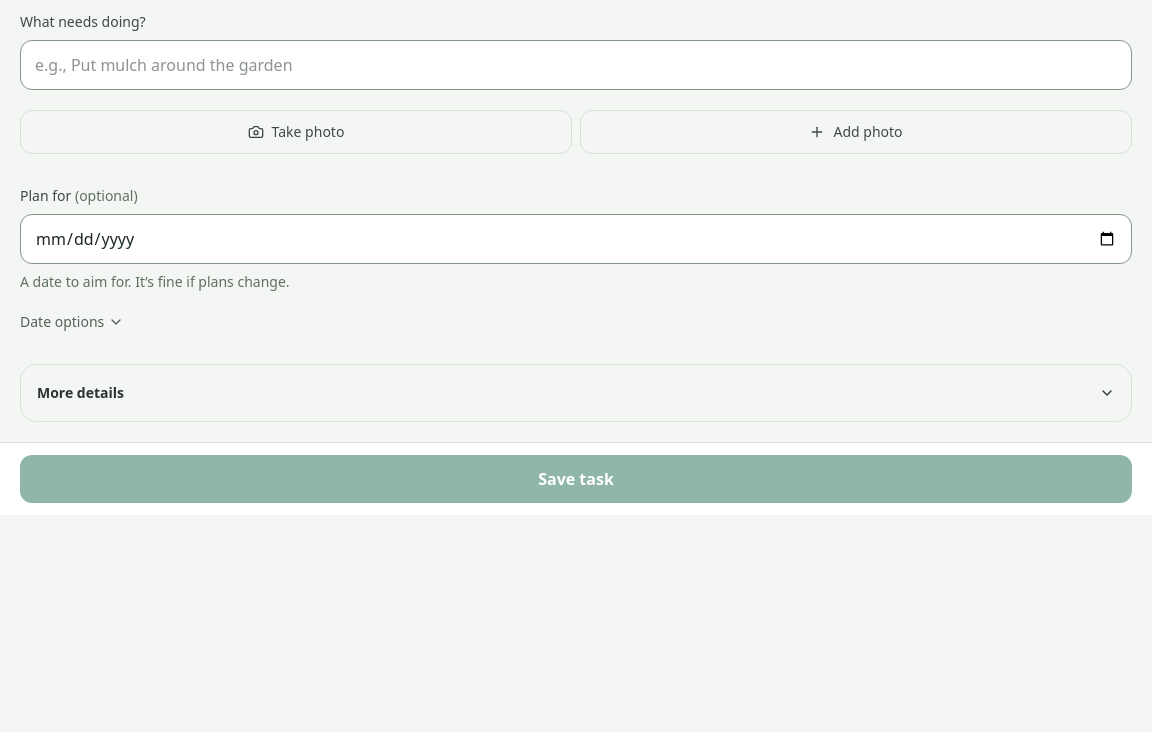
Test: task editing through the rendered interface › keeps the draft and stays in the editor when the server rejects a save
Type "Mulch the front garden when my back feels better" into the field labelled "What needs doing?".
click(576, 65); type("Mulch the front garden when my back feels better")  # box left=20, top=40, right=1132, bottom=90
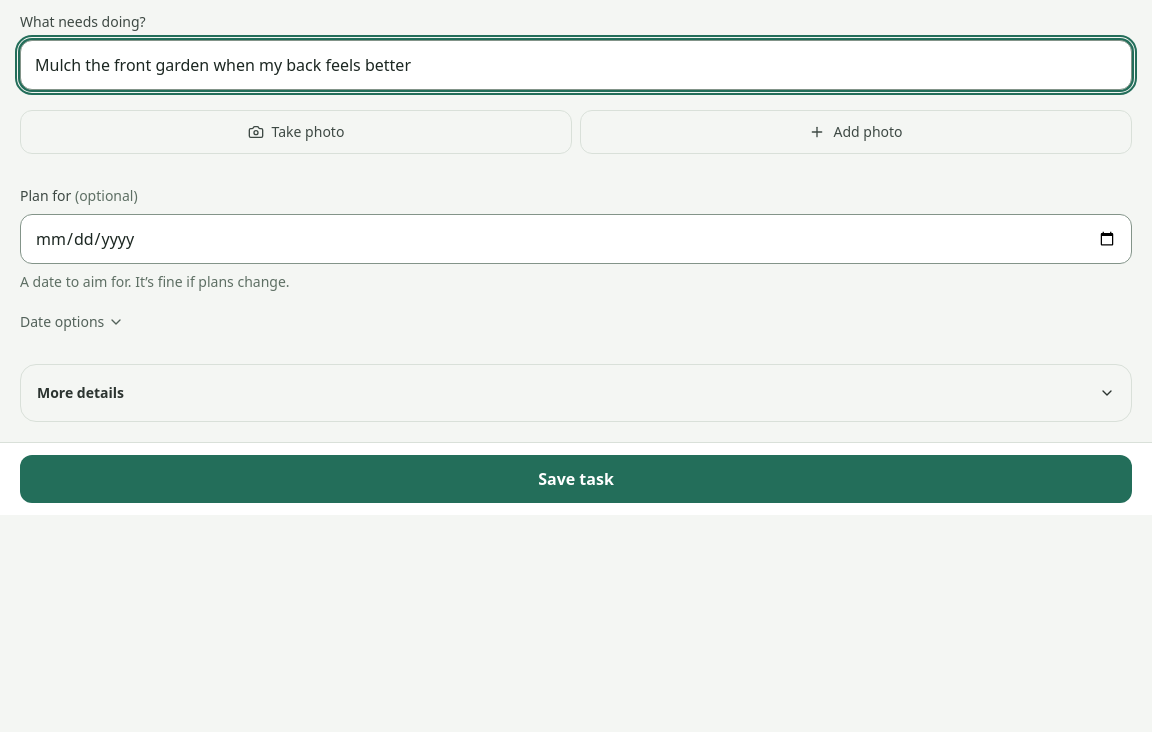
Click the button "Save task".
click(576, 479)  # box left=20, top=455, right=1132, bottom=503
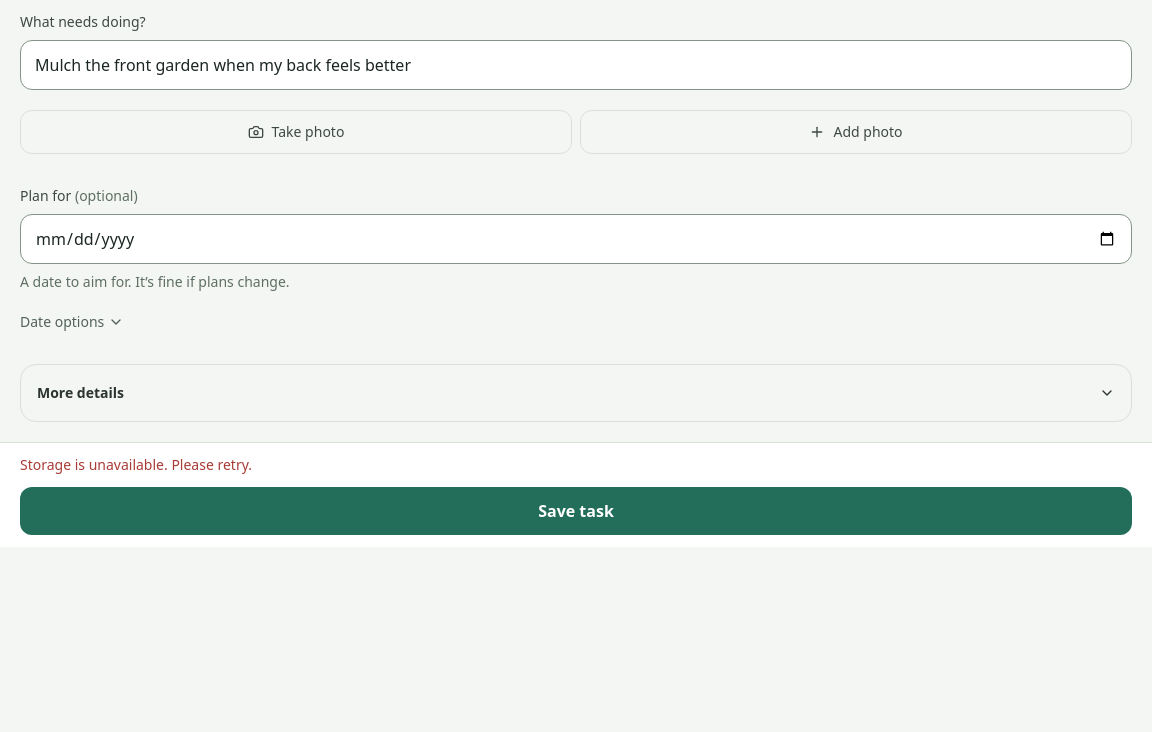
Now the button "Save task" is enabled, box left=20, top=487, right=1132, bottom=535
Now the message shows "Storage is unavailable", box left=20, top=455, right=252, bottom=474
